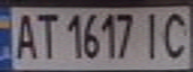1: (60, 10, 84, 60), (100, 10, 118, 60)
6: (81, 10, 103, 60)
7: (115, 10, 139, 60)
A: (9, 10, 39, 61)
C: (160, 8, 193, 61)
I: (139, 9, 166, 61)
T: (33, 9, 60, 61)
